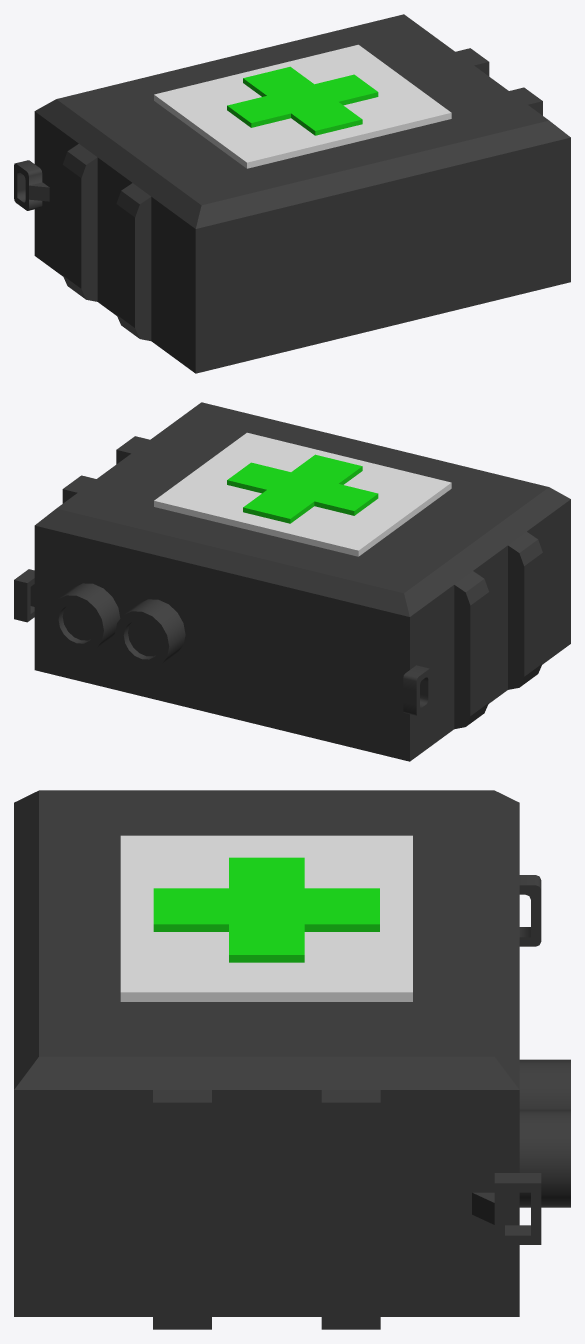
File: SM_VitalityModule.fbx
3 views of the same model, one above another, from view 1: azimuth 30°, elevation 25°; view 2: azimuth 150°, elevation 25°; view 3: azimuth 270°, elevation 25° (orthographic). The views are drawn at different scales.
Visible parts, largest first — view 1: Cube; view 2: Cube; view 3: Cube.
Part boxes in pixels (bbox=[...]): Cube: bbox=[14, 14, 570, 373]; Cube: bbox=[14, 402, 570, 761]; Cube: bbox=[14, 790, 570, 1329].
Bounding box in the file's own units: 217 × 86.65 × 164.
